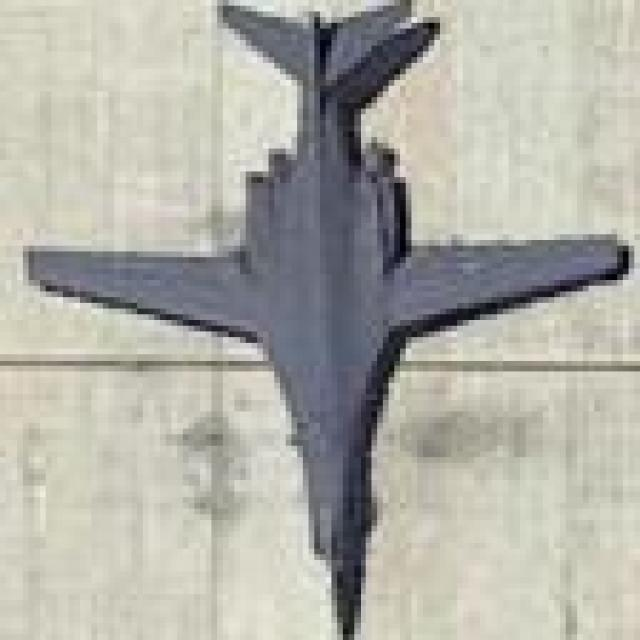B-1_TopDown: (17, 0, 628, 634)
